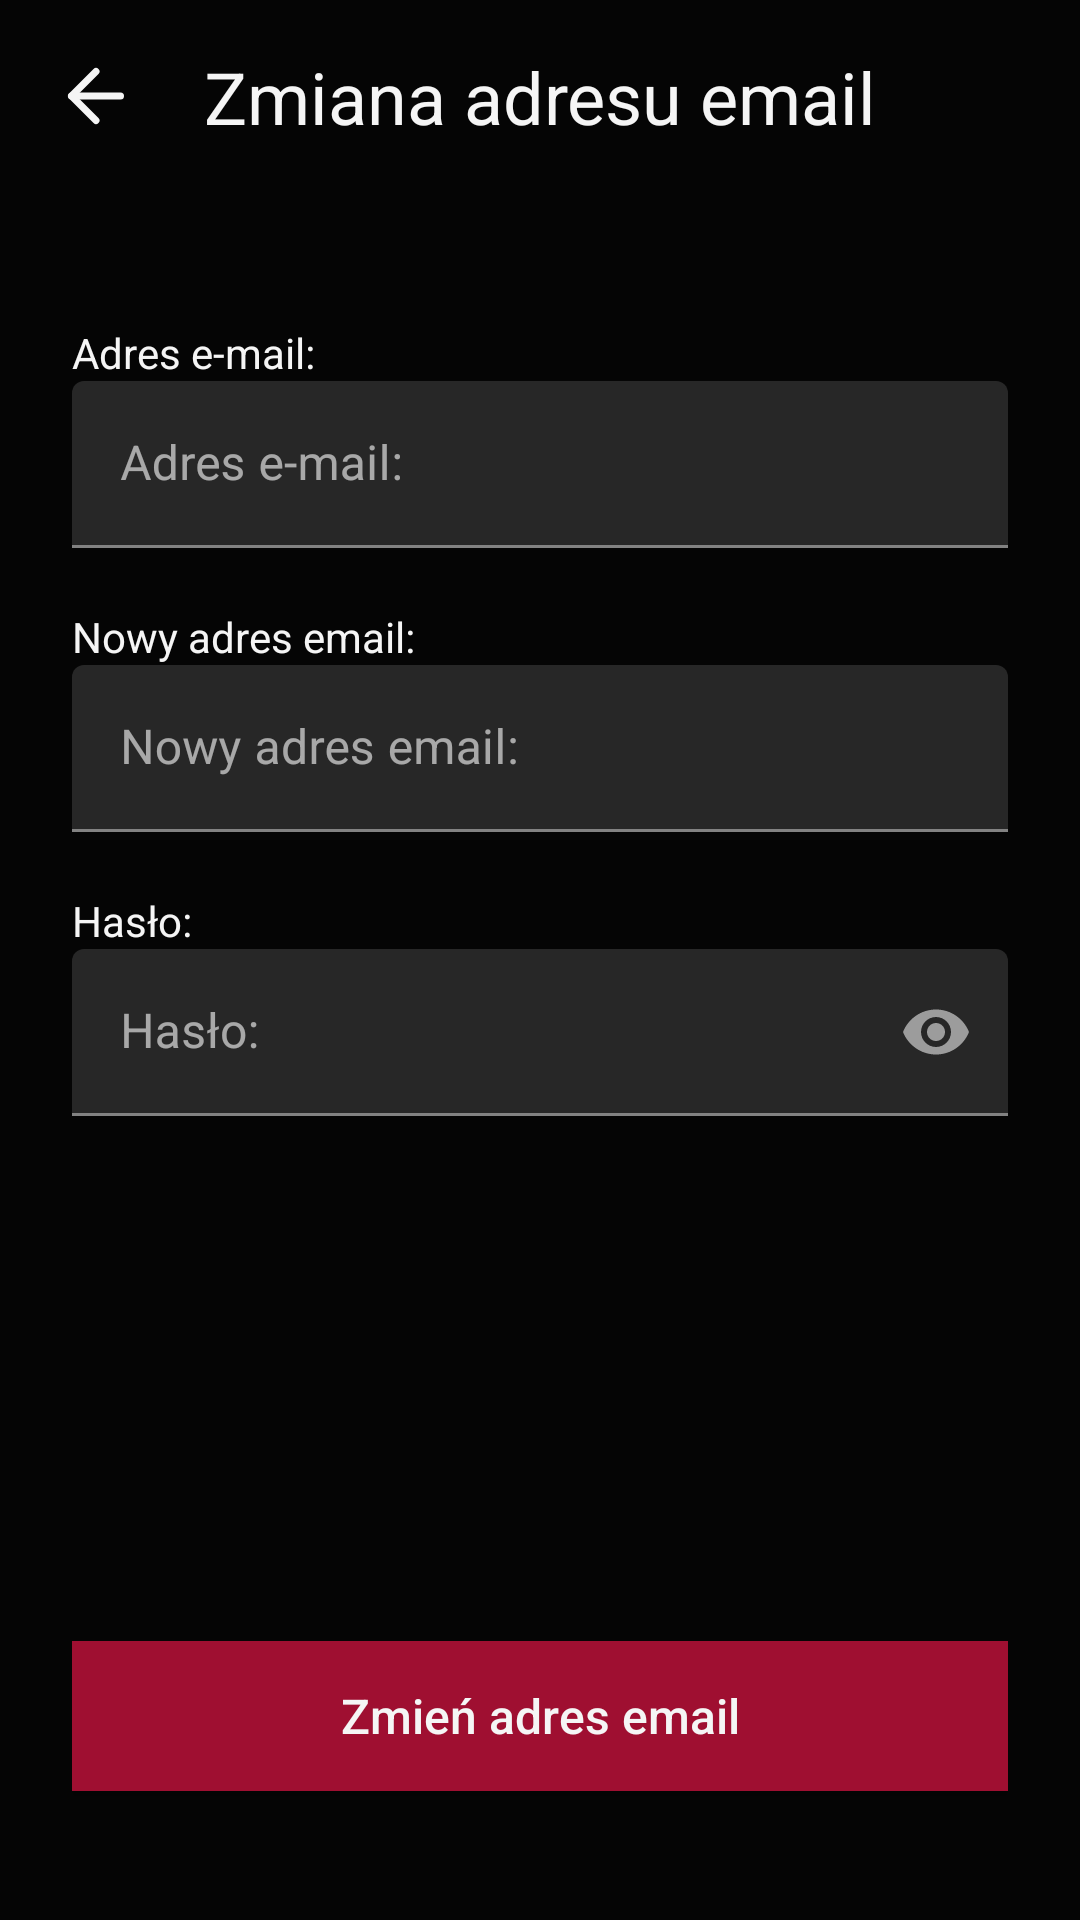

Named icons in this screenshot (1080 × 1920) and their bounding boxes, (x1, y1, x2, y2):
Go Back: (68, 67, 124, 125)
